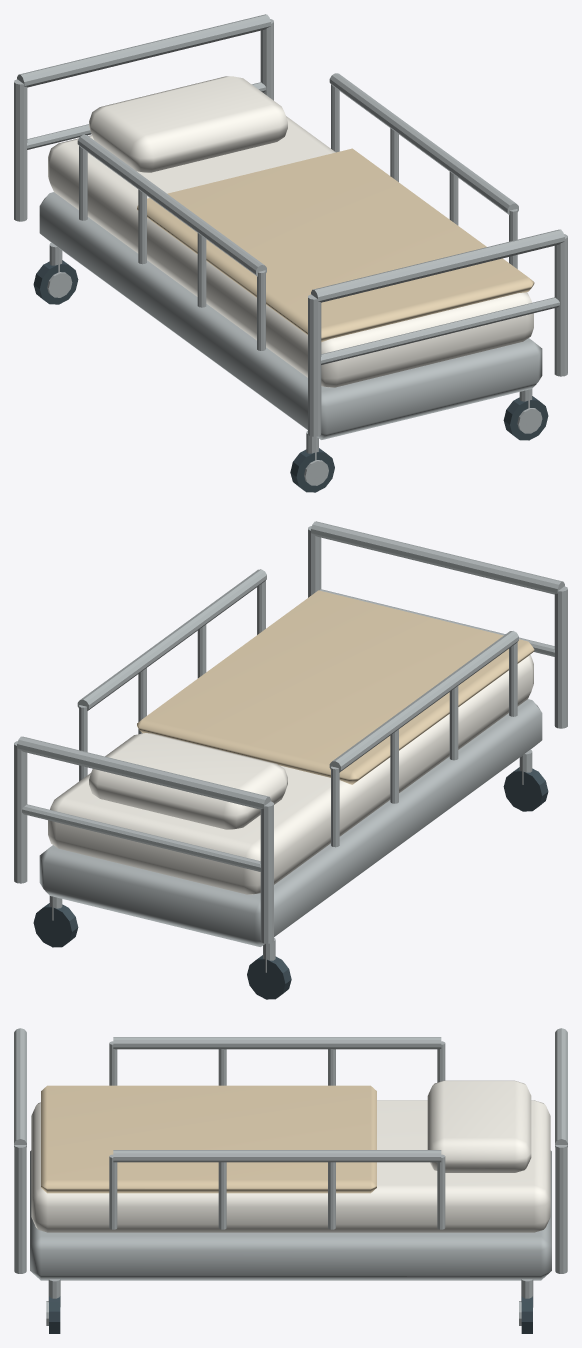
The model's file is RecoveryBed_starter.glb.
The picture shows the model from 3 angles, top to bottom: view 1: azimuth 30°, elevation 25°; view 2: azimuth 150°, elevation 25°; view 3: azimuth 270°, elevation 25°; orthographic projection. The views are drawn at different scales.
Visible parts, largest first — view 1: Static_steel, Static_white, Static_linen, Static_dark; view 2: Static_steel, Static_linen, Static_white, Static_dark; view 3: Static_steel, Static_white, Static_linen, Static_dark.
Boxes of the visible parts, x1=… form: Static_steel: x1=14, y1=14, x2=567, y2=485; Static_white: x1=48, y1=76, x2=533, y2=387; Static_linen: x1=137, y1=148, x2=534, y2=342; Static_dark: x1=33, y1=260, x2=548, y2=492; Static_steel: x1=14, y1=521, x2=567, y2=972; Static_linen: x1=137, y1=590, x2=534, y2=784; Static_white: x1=48, y1=655, x2=533, y2=894; Static_dark: x1=33, y1=767, x2=548, y2=999; Static_steel: x1=14, y1=1028, x2=567, y2=1325; Static_white: x1=31, y1=1080, x2=550, y2=1232; Static_linen: x1=41, y1=1085, x2=376, y2=1193; Static_dark: x1=49, y1=1296, x2=532, y2=1333.
Bounding box in the file's own units: 1.02 × 0.81 × 2.03.
